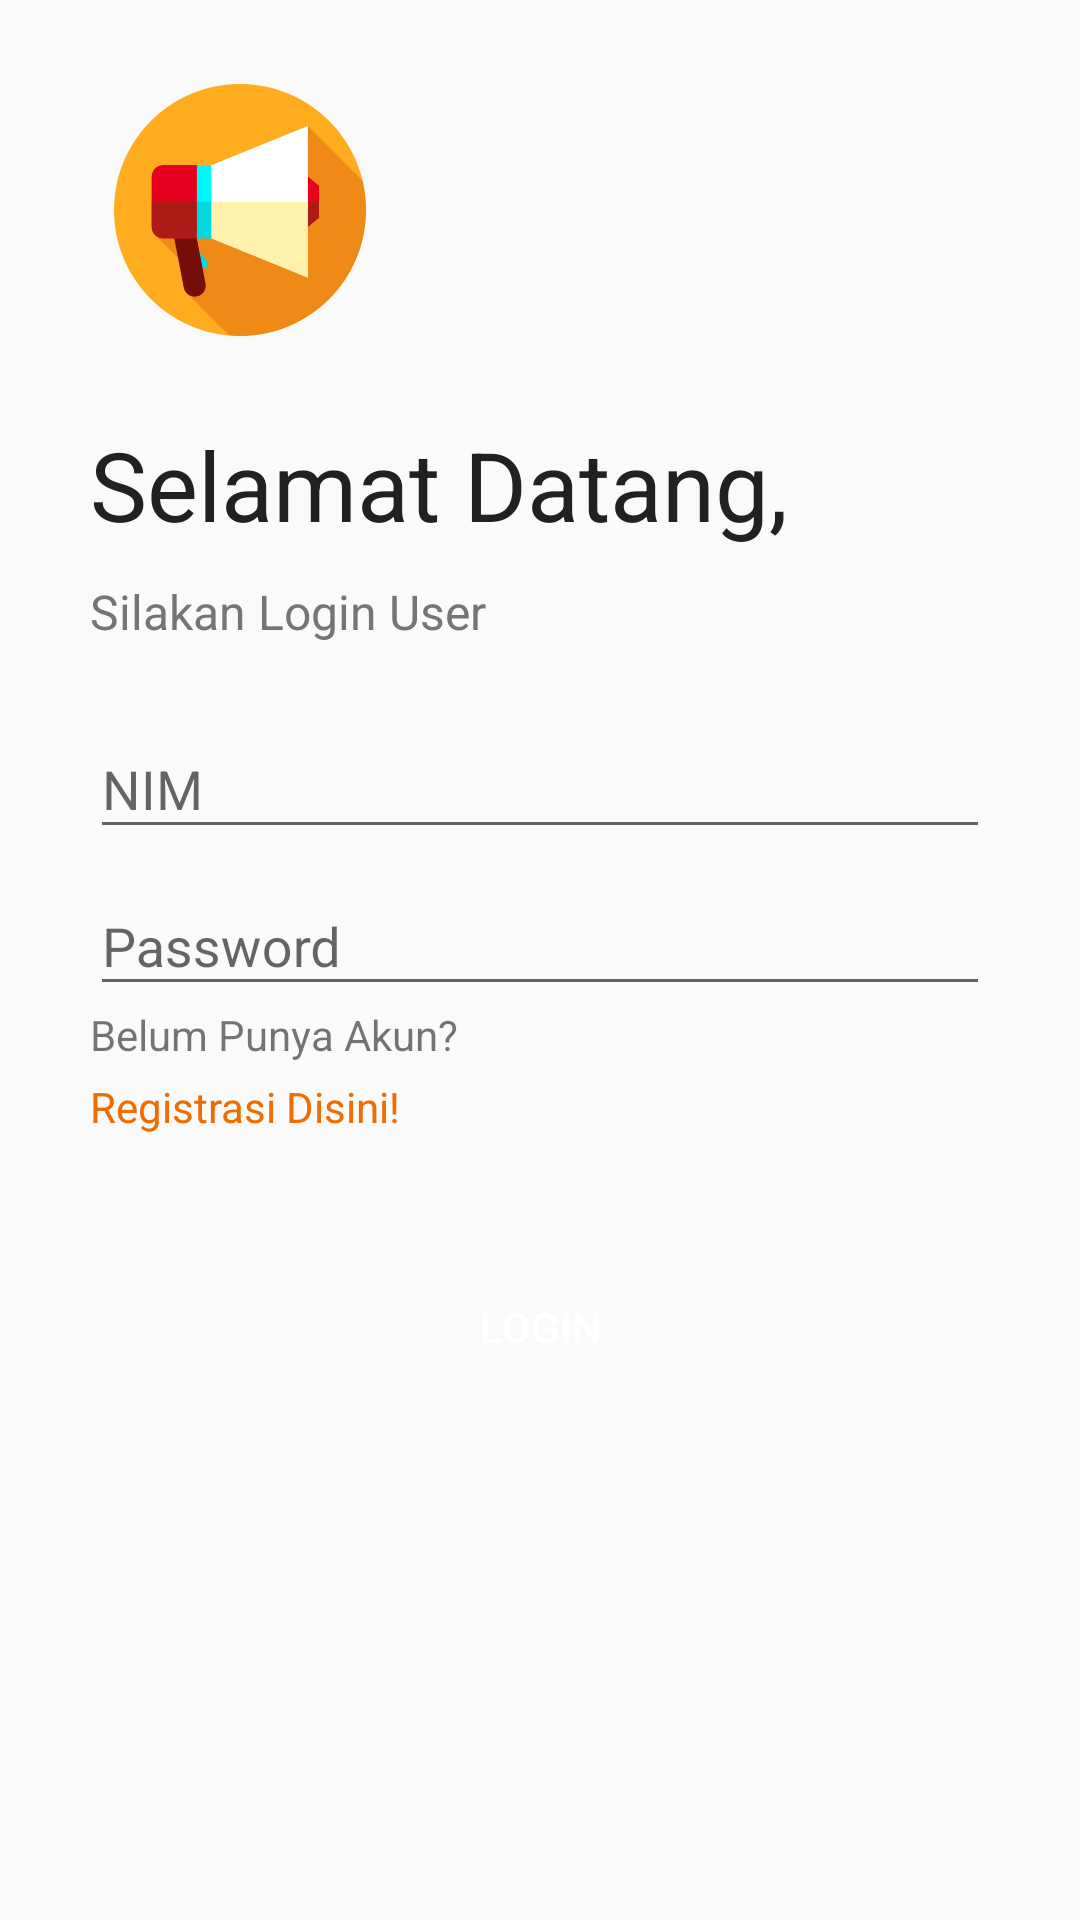

Screen size 1080x1920. Icon name, then its box in pixels as bbox=(x1, y1, x2, y2):
megaphone: bbox=(114, 84, 366, 336)
